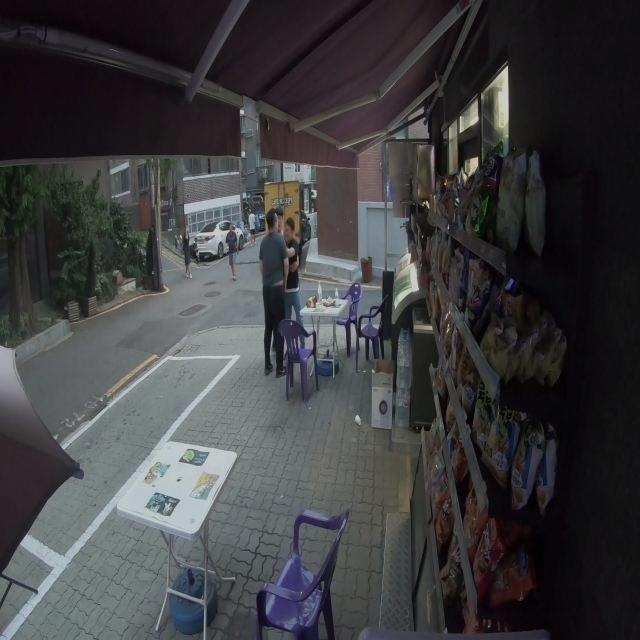fight: (259, 207, 308, 384)
non-fight: (224, 223, 241, 280)
